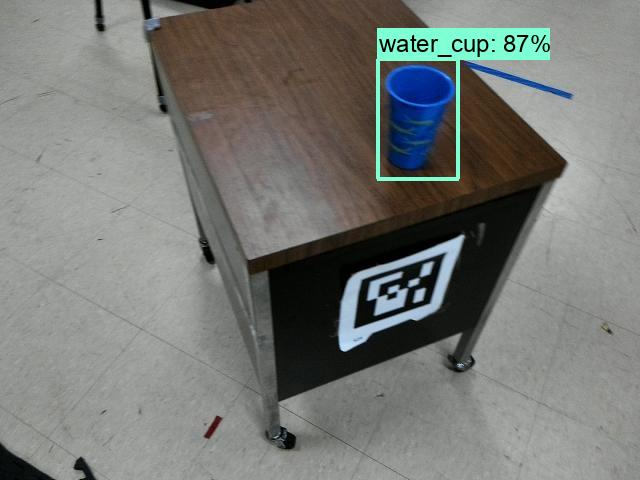water_cup: (377, 63, 457, 177)
